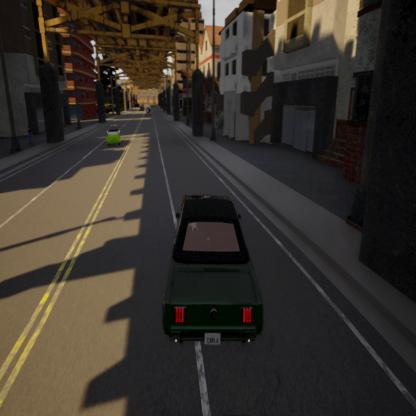Cars: (160, 187, 267, 351), (103, 119, 124, 149), (145, 105, 152, 119), (138, 102, 146, 112)
Pedestrian: (25, 126, 36, 150)
